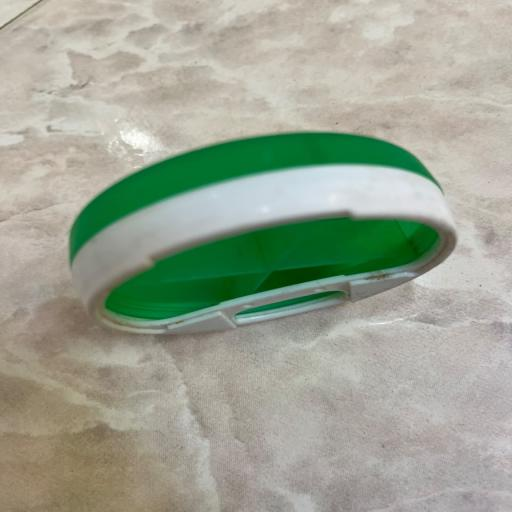HDPE: (56, 132, 496, 354)
